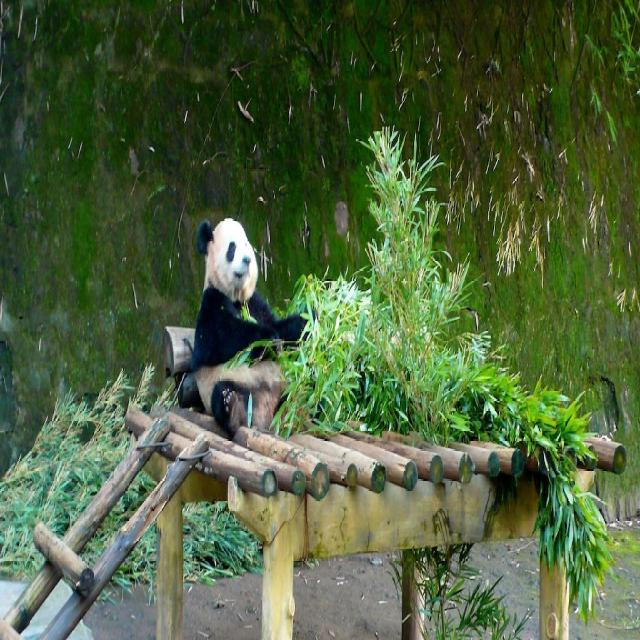panda: (188, 220, 317, 429)
